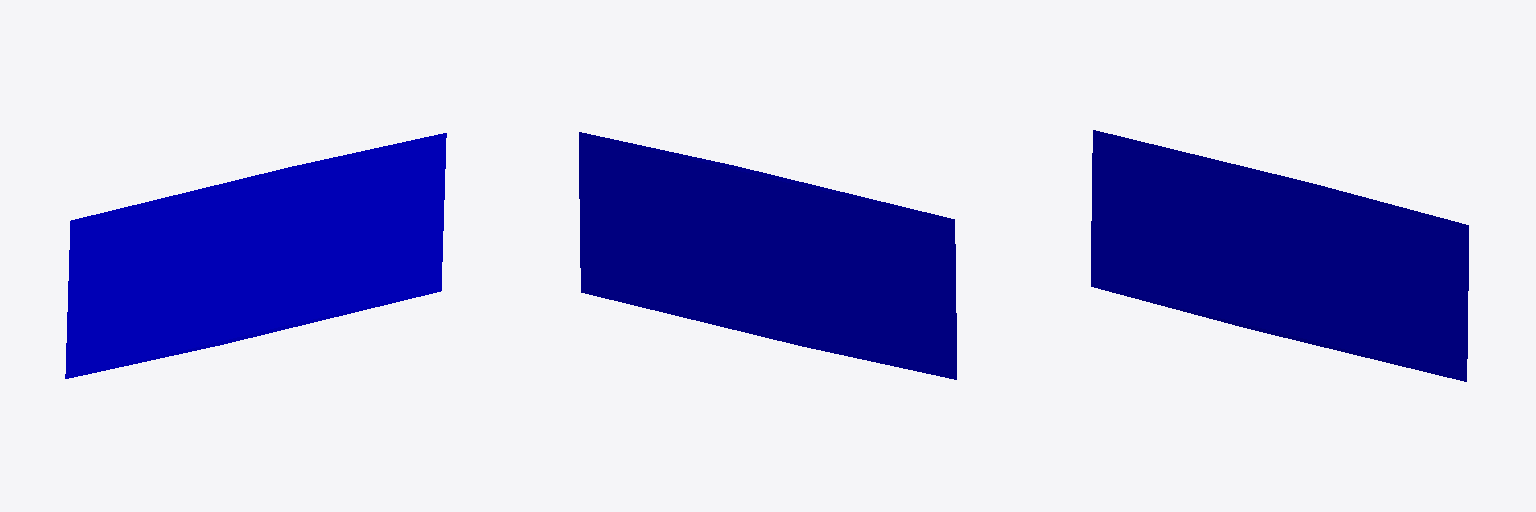
The model's file is planes_1-dynamic - BLK2GO-3630355-Scan 080 42.obj.
3 views of the same model, side by side, from view 1: azimuth 30°, elevation 25°; view 2: azimuth 150°, elevation 25°; view 3: azimuth 330°, elevation 25° (orthographic).
Parts seen in each view (by area): view 1: 1-dynamic_-_BLK2GO-[number redacted]-Scan_080_42_0; view 2: 1-dynamic_-_BLK2GO-[number redacted]-Scan_080_42_0; view 3: 1-dynamic_-_BLK2GO-[number redacted]-Scan_080_42_0.
Part boxes in pixels (bbox=[...]): 1-dynamic_-_BLK2GO-[number redacted]-Scan_080_42_0: bbox=[65, 133, 446, 378]; 1-dynamic_-_BLK2GO-[number redacted]-Scan_080_42_0: bbox=[579, 132, 956, 379]; 1-dynamic_-_BLK2GO-[number redacted]-Scan_080_42_0: bbox=[1091, 130, 1468, 381].
Bounding box in the file's own units: 1.74 × 0.7126 × 0.0125.